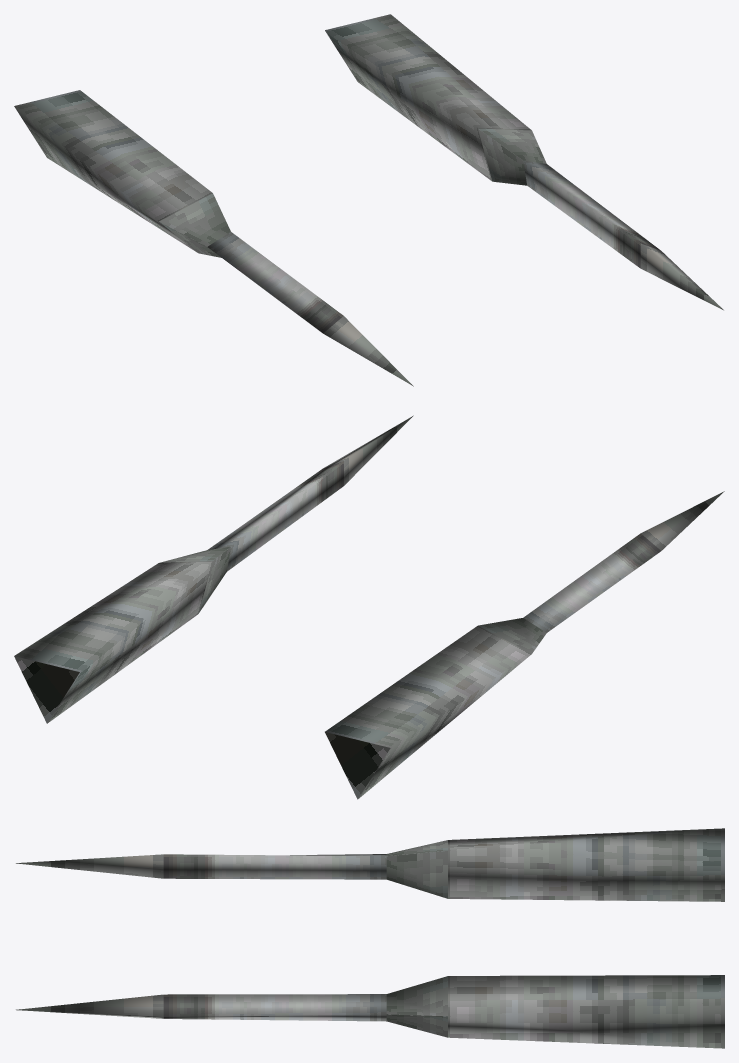
Rendered from bwing_weapon1_s05_l3.fbx.
3 renders of one model, top to bottom at view 1: azimuth 30°, elevation 25°; view 2: azimuth 150°, elevation 25°; view 3: azimuth 270°, elevation 25°, orthographic. The views are drawn at different scales.
Visible parts, largest first — view 1: mesh_node; view 2: mesh_node; view 3: mesh_node.
Part boxes in pixels (x1=…): mesh_node: x1=14, y1=14, x2=723, y2=386; mesh_node: x1=14, y1=415, x2=724, y2=799; mesh_node: x1=16, y1=828, x2=724, y2=1048.
Bounding box in the file's own units: 0.956 × 0.1548 × 1.61.
1 material, 1 textured.
